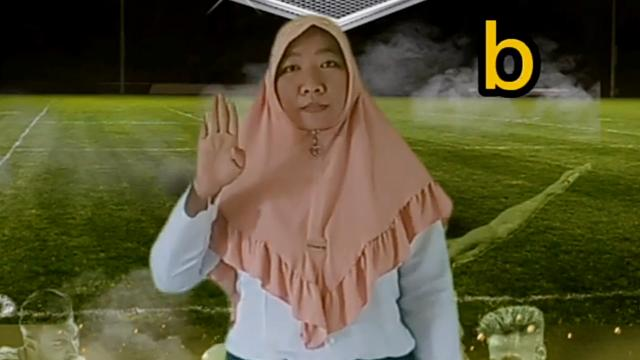B: (197, 92, 245, 194)
